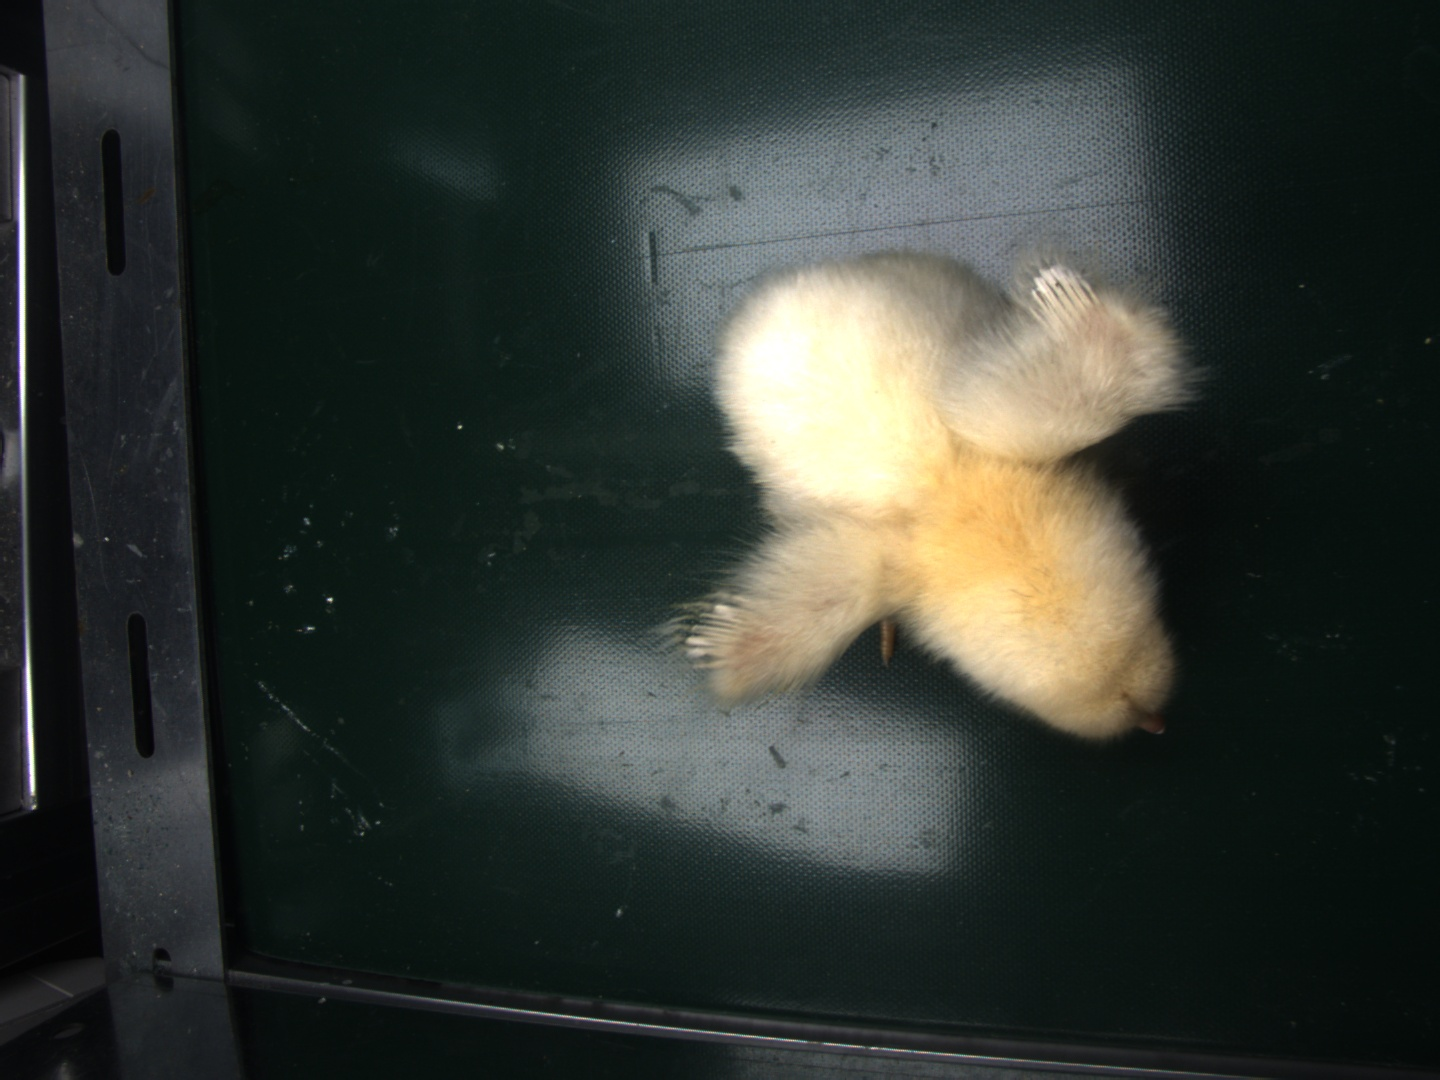male: (697, 602, 753, 665)
